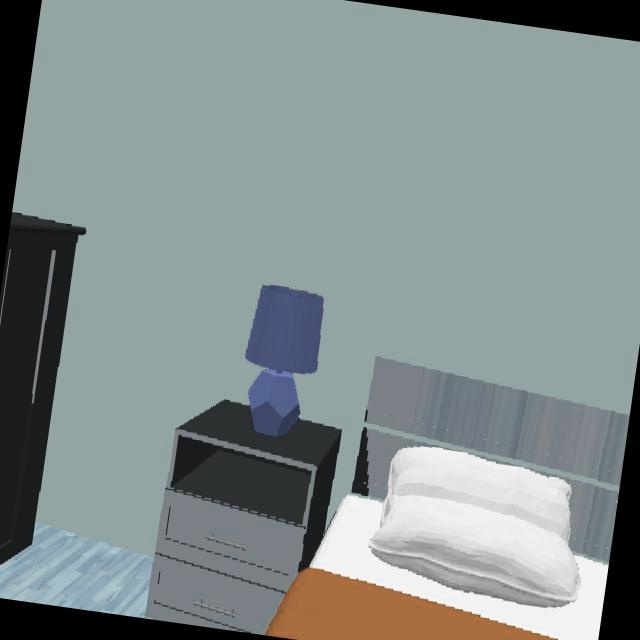bed: (265, 356, 630, 640)
lamp: (244, 286, 325, 437)
nighttable: (145, 401, 342, 636)
pillow: (360, 446, 584, 620)
